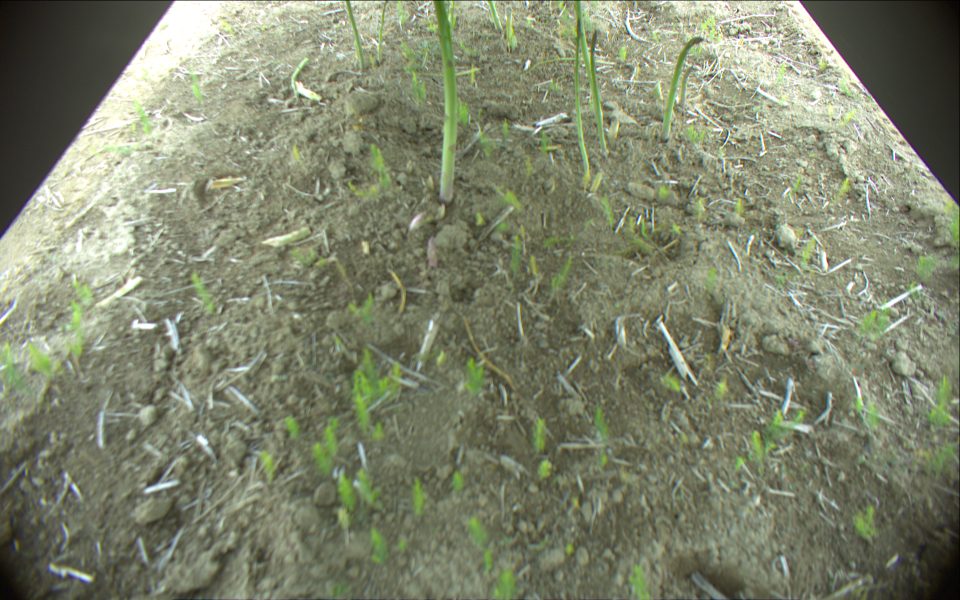aspa: (430, 1, 456, 205), (660, 34, 704, 142), (573, 1, 591, 177), (573, 1, 594, 105), (591, 30, 607, 153), (344, 1, 365, 72), (292, 57, 309, 101), (679, 66, 696, 109), (378, 1, 388, 63), (488, 1, 503, 32), (505, 8, 513, 45)
